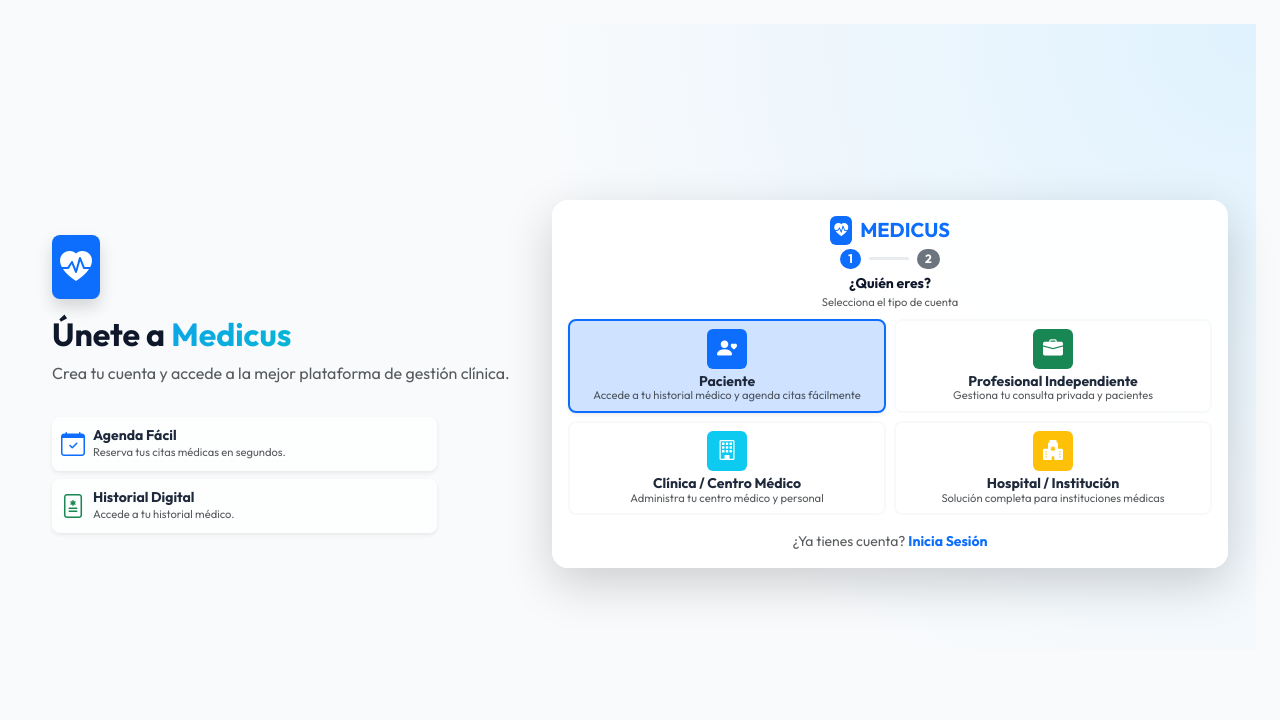
Scenario: Registration Flow › should go back to step 1
Click the heading "Paciente": (727, 381) [699,372,755,390]
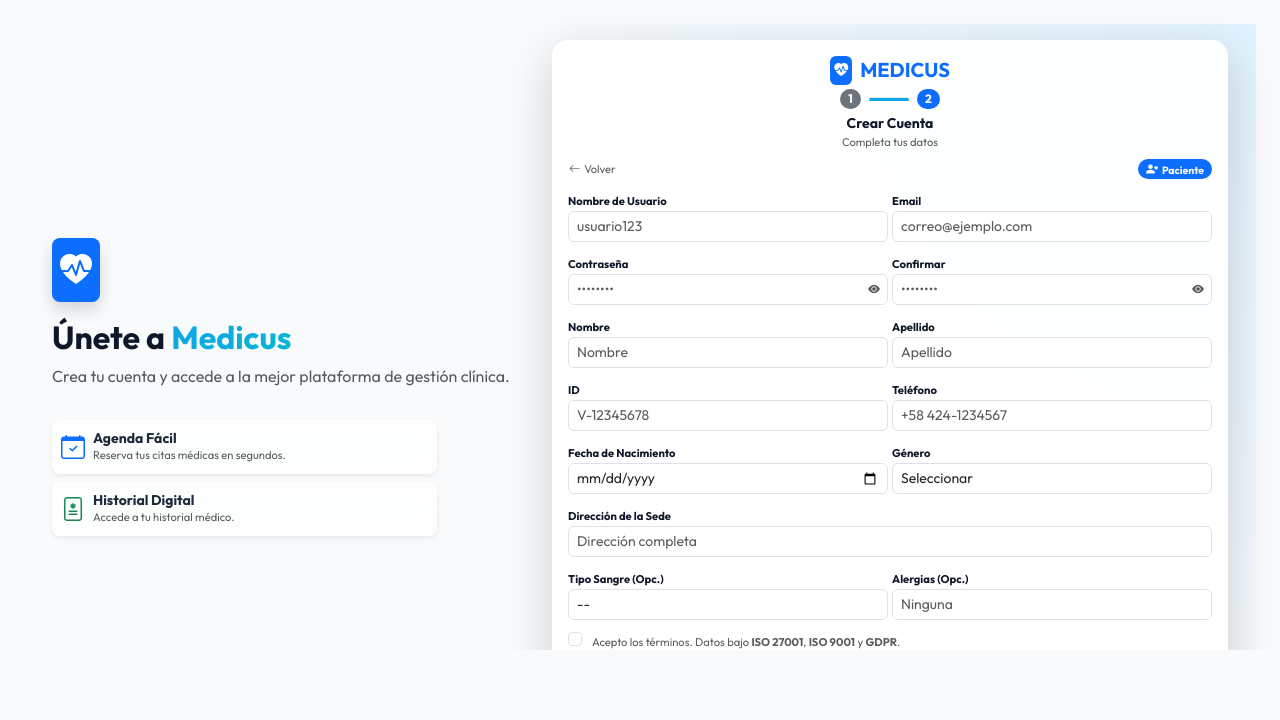
Click the button "Volver": (593, 170) [568,160,617,179]
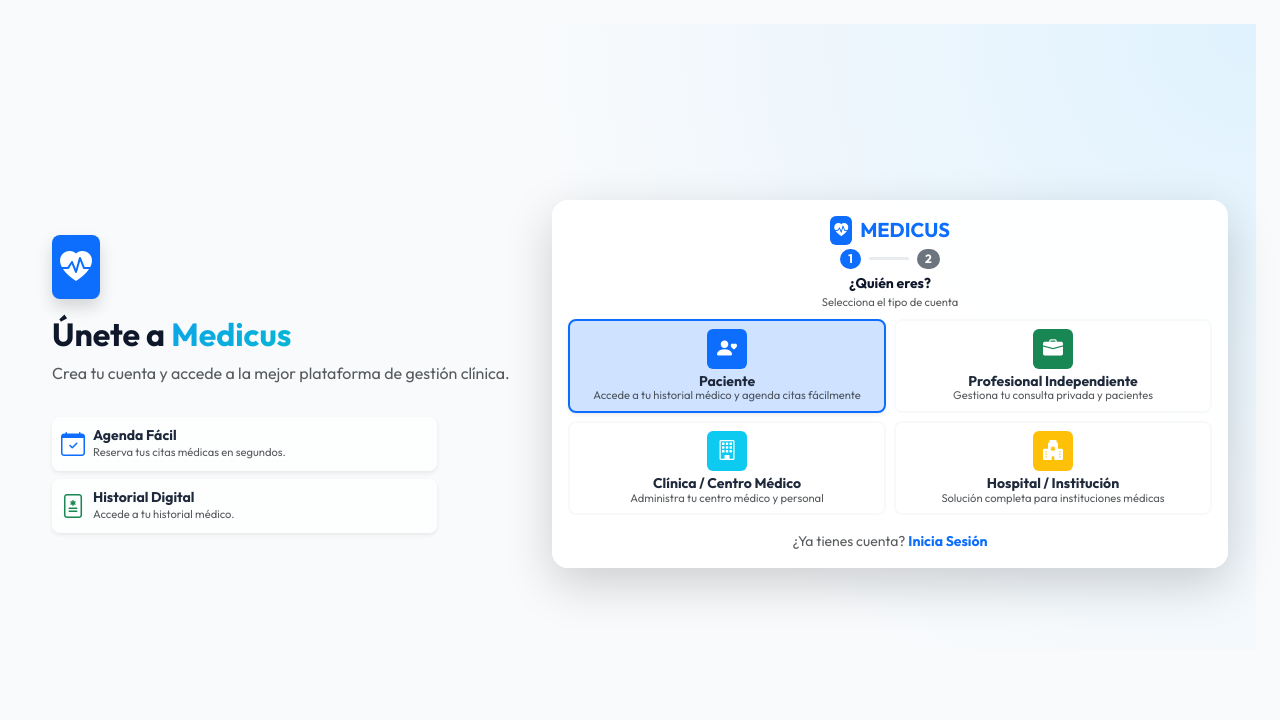
expect the text "¿Quién eres?" is shown: met, box [849,274,931,292]
